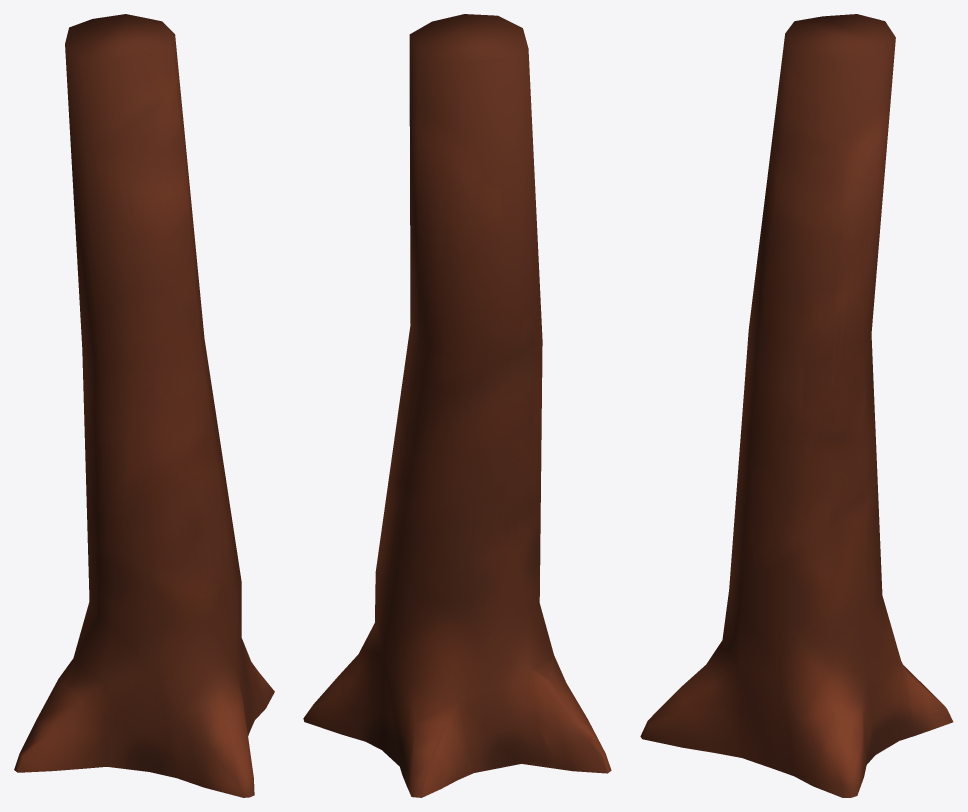
The model's file is pohon_3.fbx.
The picture shows the model from 3 angles, left to right: view 1: azimuth 30°, elevation 25°; view 2: azimuth 150°, elevation 25°; view 3: azimuth 270°, elevation 25°; orthographic projection. The views are drawn at different scales.
Parts seen in each view (by area): view 1: Cylinder; view 2: Cylinder; view 3: Cylinder.
Boxes of the visible parts, x1,y1,x2,y2 form: Cylinder: [14, 14, 274, 797]; Cylinder: [303, 14, 611, 797]; Cylinder: [640, 14, 953, 797].
Bounding box in the file's own units: 407 × 980 × 404.
1 material, 1 textured.
